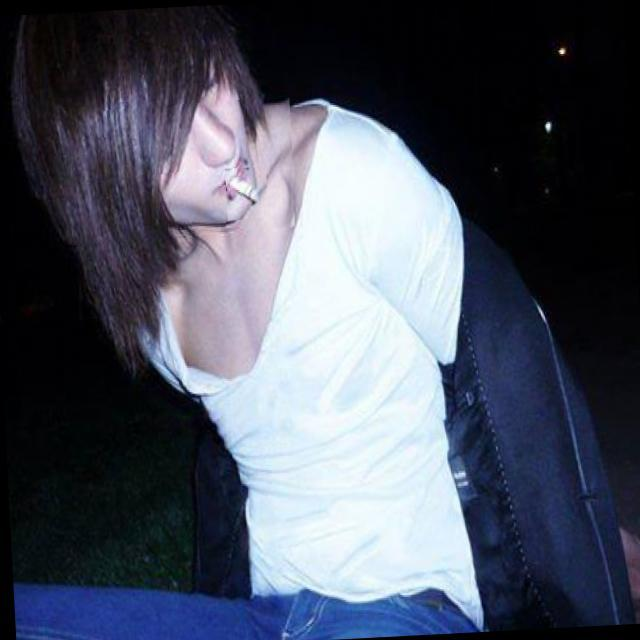cigarette: (226, 167, 270, 220)
